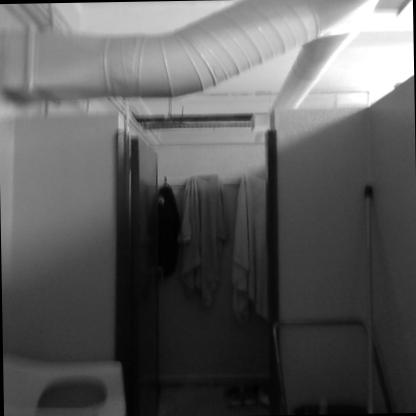open: (99, 98, 292, 406)
